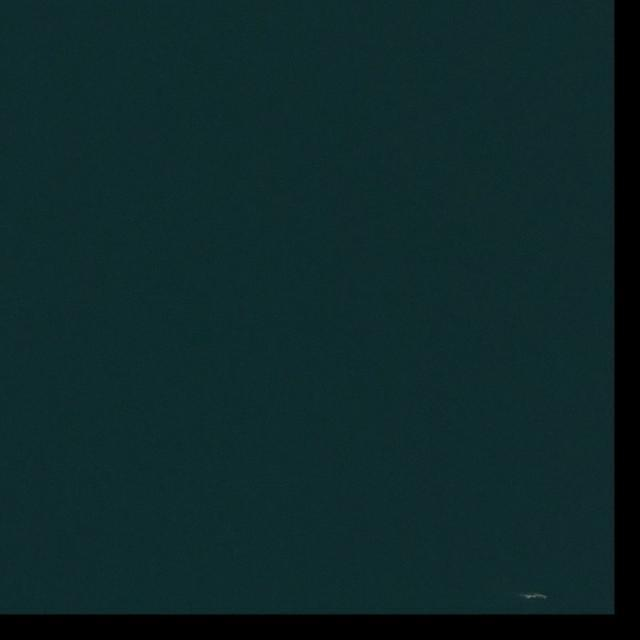ship: (534, 594, 549, 598)
